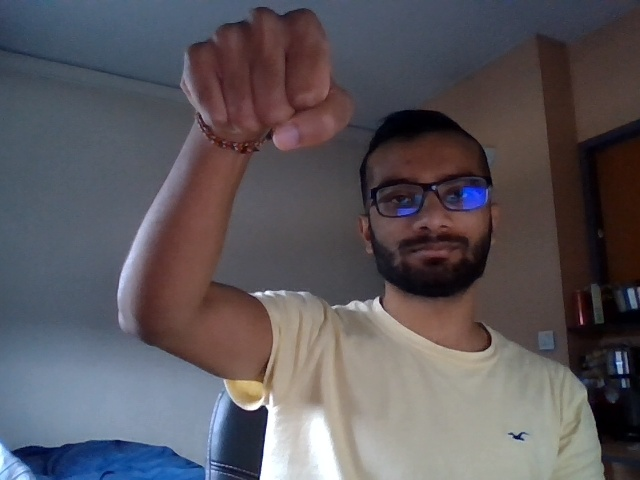Yes: (158, 1, 370, 165)
